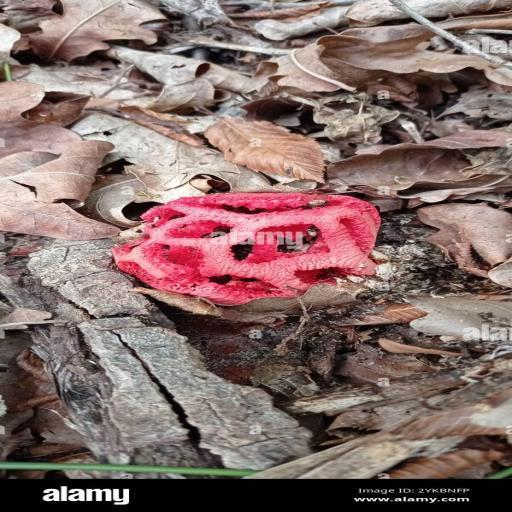mushroom: (120, 189, 385, 305)
